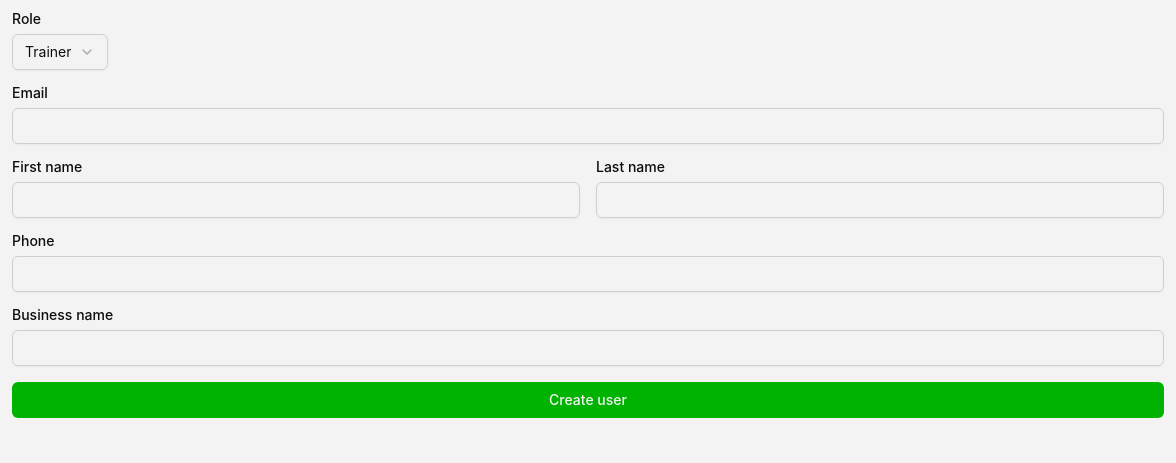
Test: CreateUserForm › requires a business name when the role is Trainer
Type "trainer@example.org" into the field labelled "Email" at (588, 126), box [12,108,1164,144]
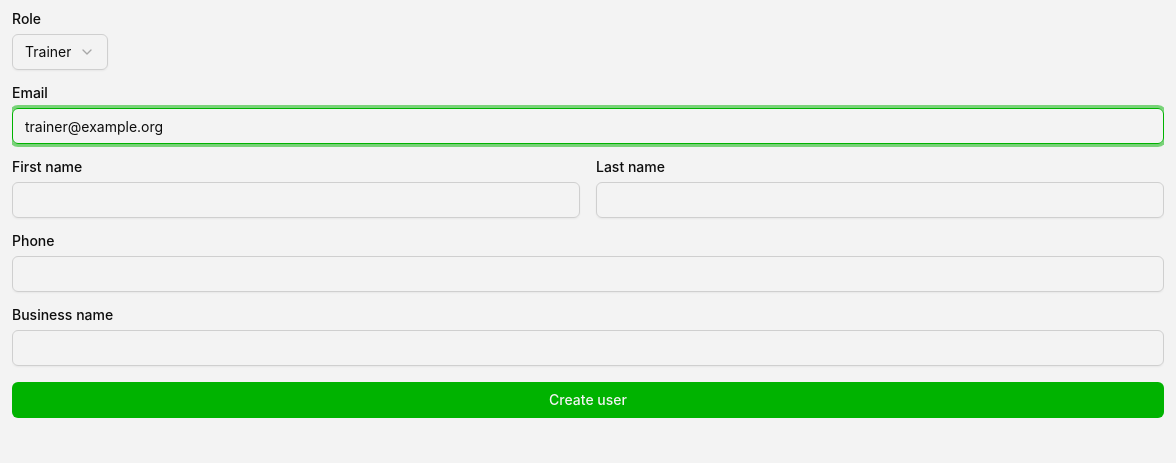
Type "Tara" into the field labelled "First name" at (296, 200), box [12,182,580,218]
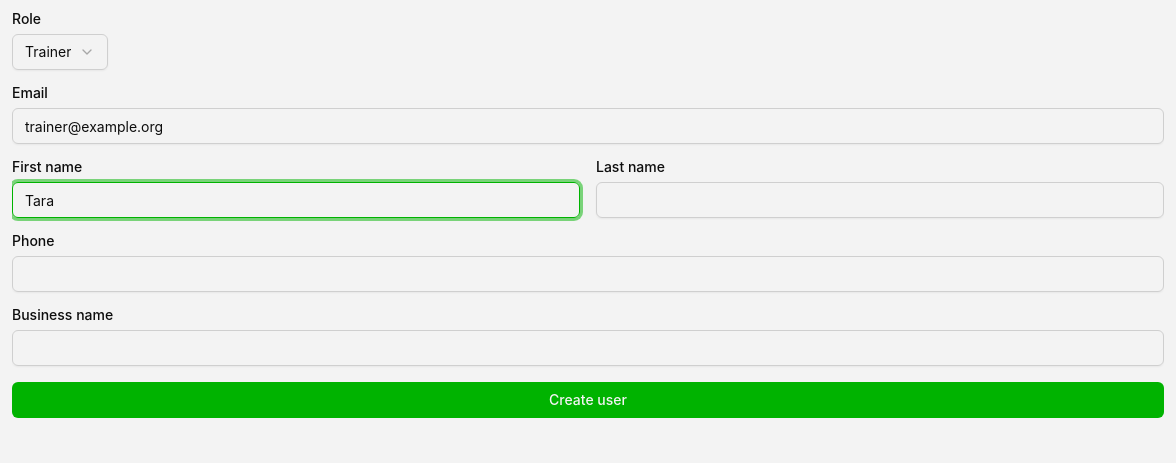
Type "Trainer" into the field labelled "Last name" at (880, 200), box [596,182,1164,218]
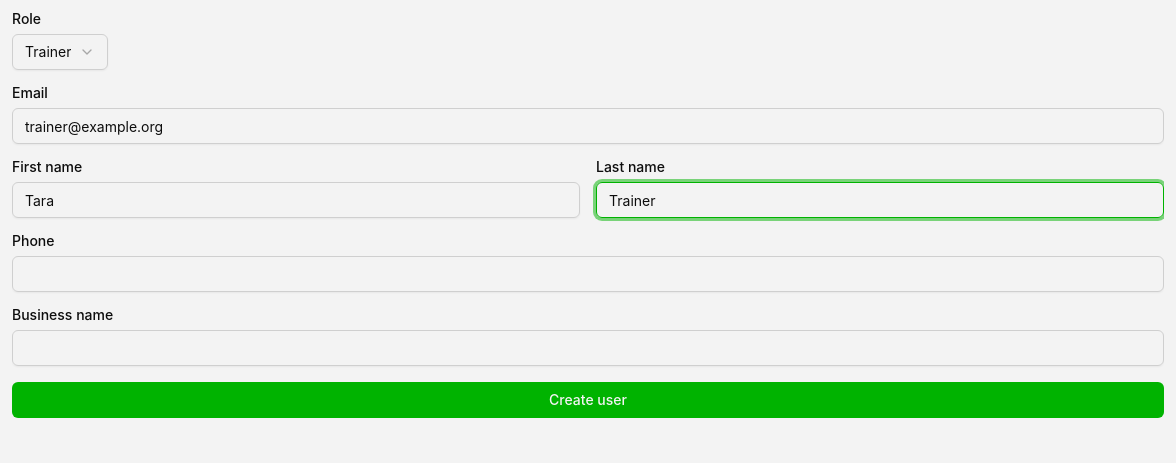
Type "+15551234567" into the field labelled "Phone" at (588, 274), box [12,256,1164,292]
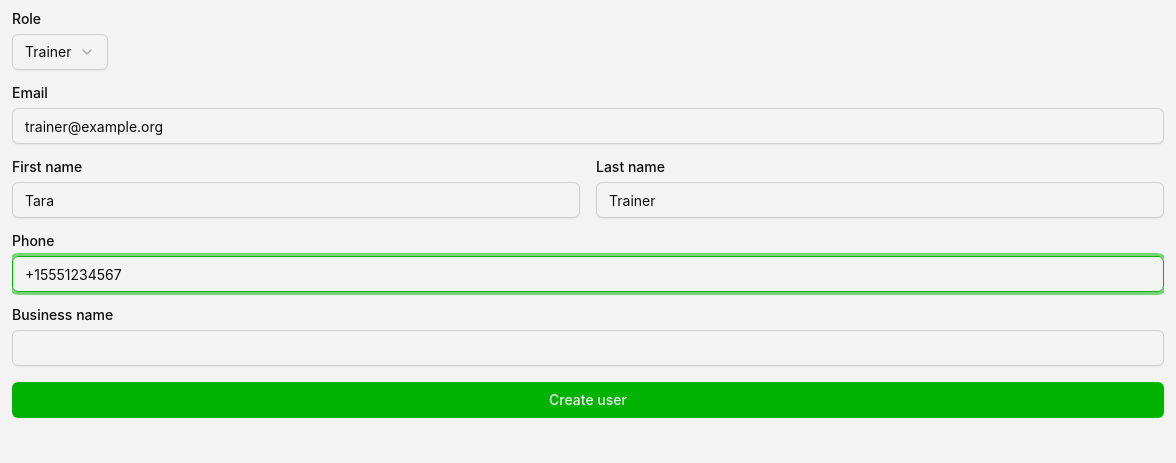
Click the button "Create user" at (588, 400), box [12,382,1164,418]
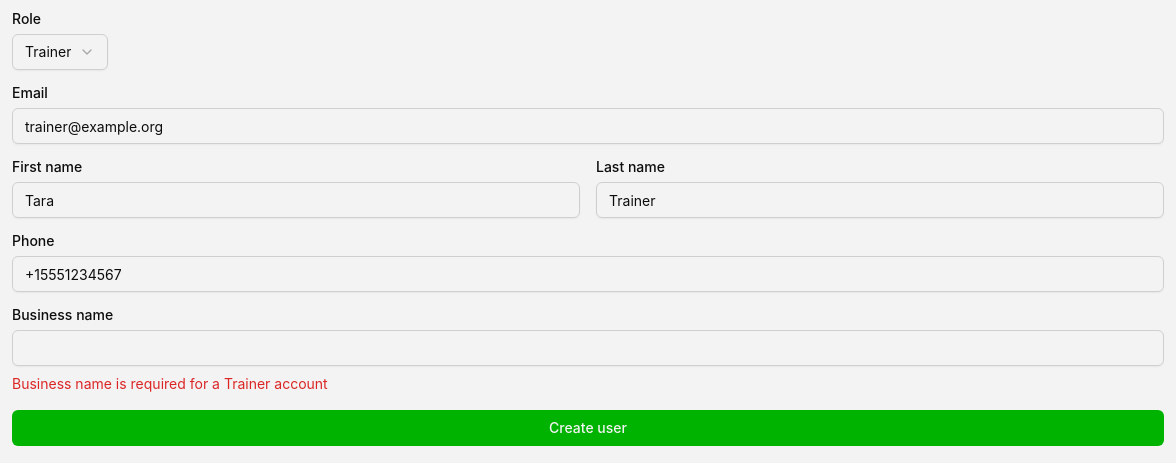
Check: the text "Business name is required for a Trainer account" is shown, box [12,375,328,392]
